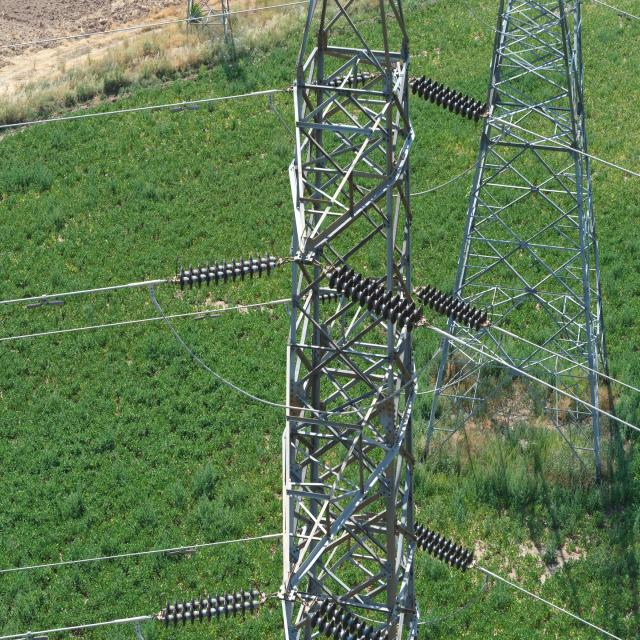voltage_line: (253, 6, 430, 640), (439, 13, 614, 488)
